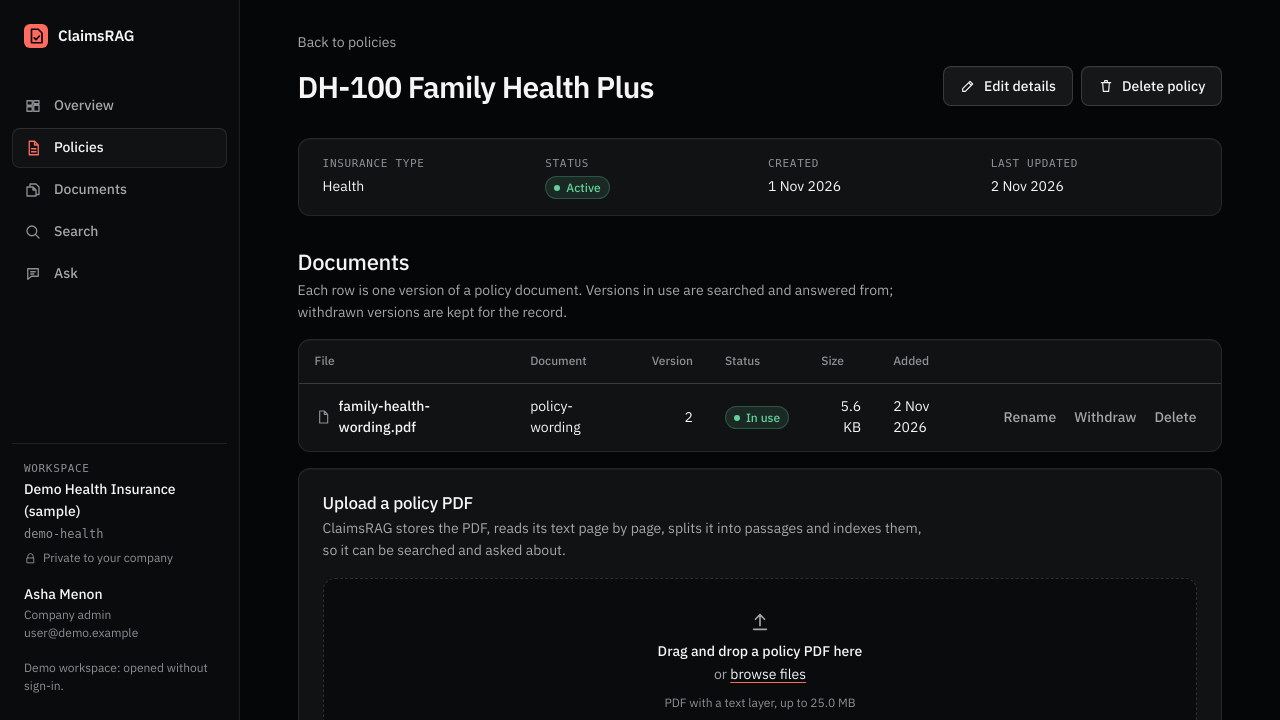
Test case: policy details › withdraws a document version and shows its new status
Click the button named "Withdraw family-health-wording.pdf": [1105, 418] box x1=1065 y1=402 x2=1146 y2=434
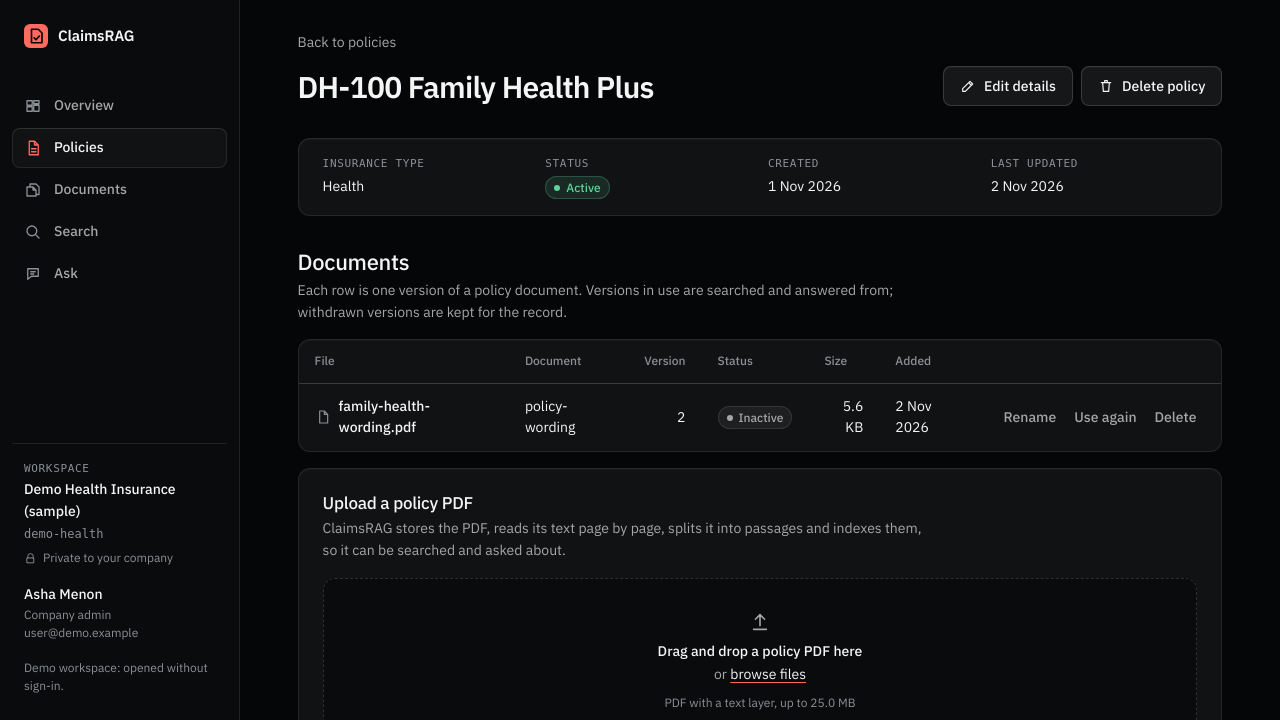
Expected: the text "Inactive" is shown, x1=718 y1=406 x2=792 y2=429
